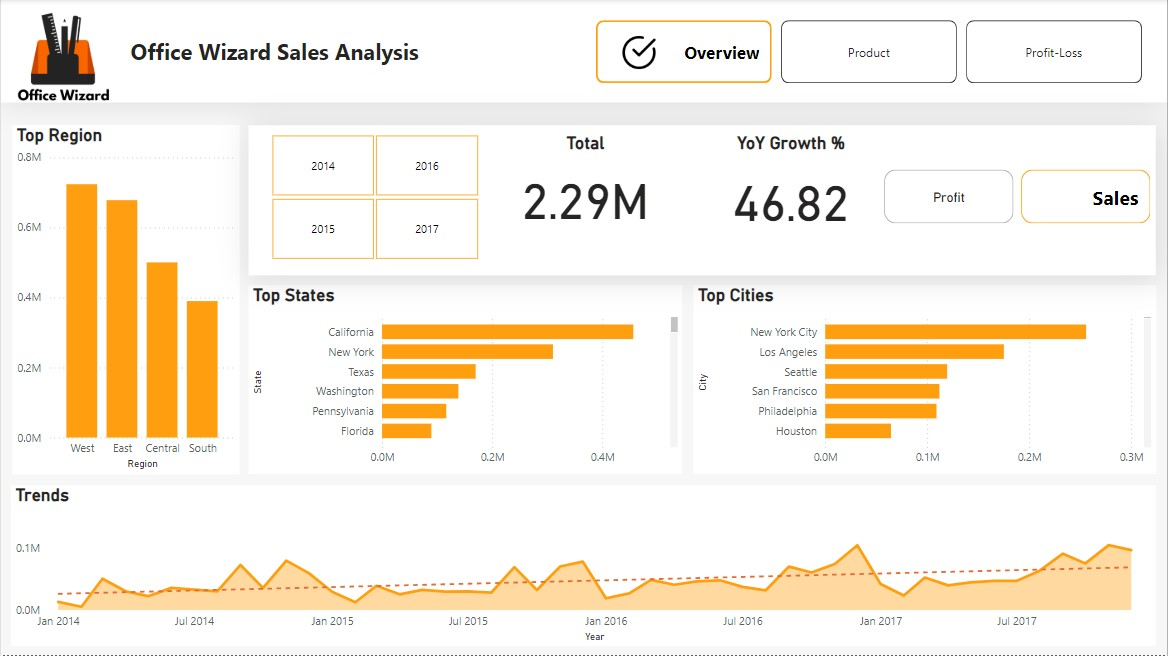

The page's visual inventory and layout, read from the dashboard file:
{"tool":"powerbi","page":{"name":"Overview","canvas":[1280,720],"ordinal":0},"visuals":[{"type":"shape","box":[0,0,1280.3,113.9],"z":0},{"type":"shape","box":[271.7,138.6,996.2,164.7],"z":0,"group":"g1"},{"type":"image","box":[0,0,137.2,123.5],"z":1000},{"type":"pageNavigator","box":[653.2,23.3,599.7,70],"z":2000},{"type":"image","box":[653.2,31.6,94.7,54.9],"z":3000},{"type":"areaChart","title":"Trends","fields":{"Category":["Sheet1.Date.Variation.Date Hierarchy.Year","Sheet1.Date.Variation.Date Hierarchy.Quarter","Sheet1.Date.Variation.Date Hierarchy.Month"],"Y":["Sheet1.My_Filter"]},"box":[11,533.8,1257,177],"z":4000},{"type":"card","title":"Total","fields":{"Values":["Sheet1.My_Filter"]},"box":[535.2,146.8,212.7,116.6],"z":5000,"group":"g1"},{"type":"barChart","title":"Top States","fields":{"Category":["Sheet1.State"],"Y":["Sheet1.My_Filter"]},"box":[271.7,314.2,476.2,207.2],"z":5000},{"type":"advancedSlicerVisual","fields":{"Values":["Sale_Option.Name"]},"box":[964.7,182.5,303.3,70],"z":6000,"group":"g1"},{"type":"barChart","title":"Top Cities","fields":{"Category":["Sheet1.City"],"Y":["Sheet1.My_Filter"]},"box":[760.2,314.2,507.7,207.2],"z":6000},{"type":"slicer","fields":{"Values":["Sheet1.Date.Variation.Date Hierarchy.Year"]},"box":[271.7,142.7,275.8,149.6],"z":7000,"group":"g1"},{"type":"columnChart","title":"Top Region","fields":{"Category":["Sheet1.Region"],"Y":["Sheet1.My_Filter"]},"box":[12.3,138.6,249.7,382.8],"z":7000},{"type":"group","id":"g1","title":"Group 1","box":[271.7,138.6,996.2,164.7],"z":8000},{"type":"textbox","box":[137.2,37,336.2,49.4],"z":9000},{"type":"card","title":"YoY Growth %","fields":{"Values":["Sheet1.YoY_Growth"]},"box":[769.8,146.8,194.9,120.8],"z":12000,"group":"g1"}]}

Visuals, with their boxes in screenshot pixels (x1, y1, x2, y2), scaled from the page's 1280x720 canvas onto the 1168x656 screenshot:
shape: (0, 0, 1167, 104)
shape: (248, 126, 1157, 276)
image: (0, 0, 125, 113)
pageNavigator: (596, 21, 1143, 85)
image: (596, 29, 682, 79)
"Trends" areaChart: (10, 486, 1157, 648)
"Total" card: (488, 134, 682, 240)
"Top States" barChart: (248, 286, 682, 475)
advancedSlicerVisual - Sale_Option.Name: (880, 166, 1157, 230)
"Top Cities" barChart: (694, 286, 1157, 475)
slicer - Sheet1.Date.Variation.Date Hierarchy.Year: (248, 130, 500, 266)
"Top Region" columnChart: (11, 126, 239, 475)
"Group 1" group: (248, 126, 1157, 276)
textbox: (125, 34, 432, 79)
"YoY Growth %" card: (702, 134, 880, 244)
